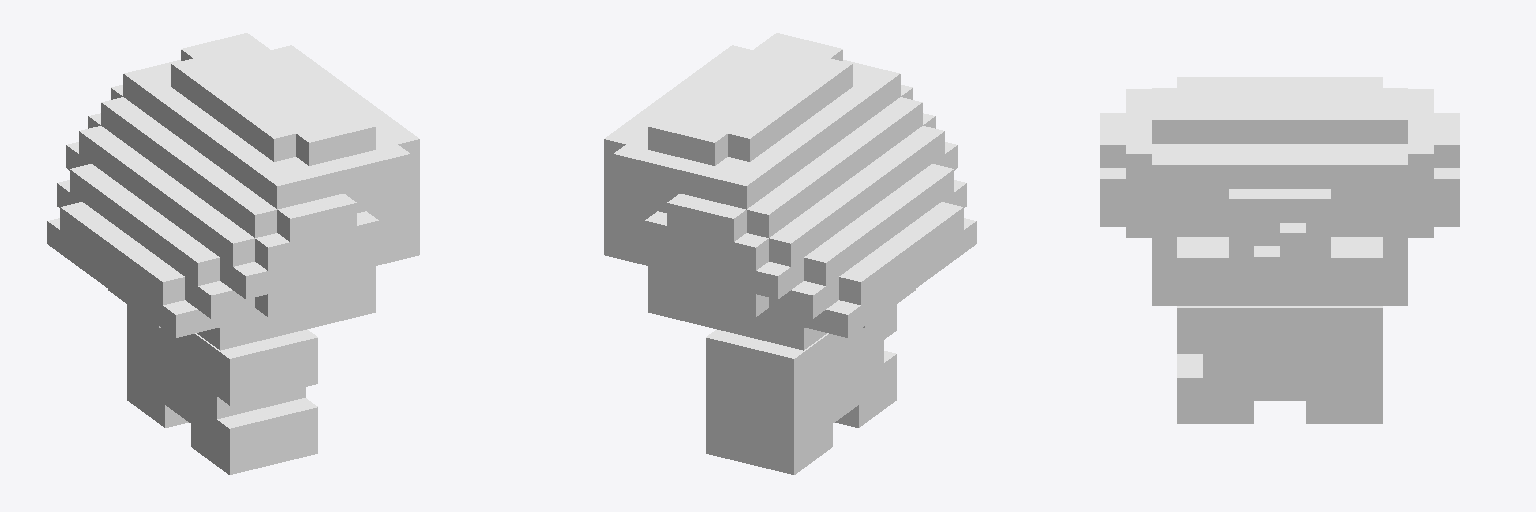
The model's file is perso2-3.obj.
3 renders of one model, left to right at view 1: azimuth 30°, elevation 25°; view 2: azimuth 150°, elevation 25°; view 3: azimuth 270°, elevation 25°, orthographic.
Parts seen in each view (by area): view 1: object 1; view 2: object 1; view 3: object 1.
Part boxes in pixels (x1,y1,x2,y2): object 1: (47,33,419,474); object 1: (604,33,976,474); object 1: (1100,77,1459,423).
Size of the model in its own units: 1.3 by 1.4 by 1.4.